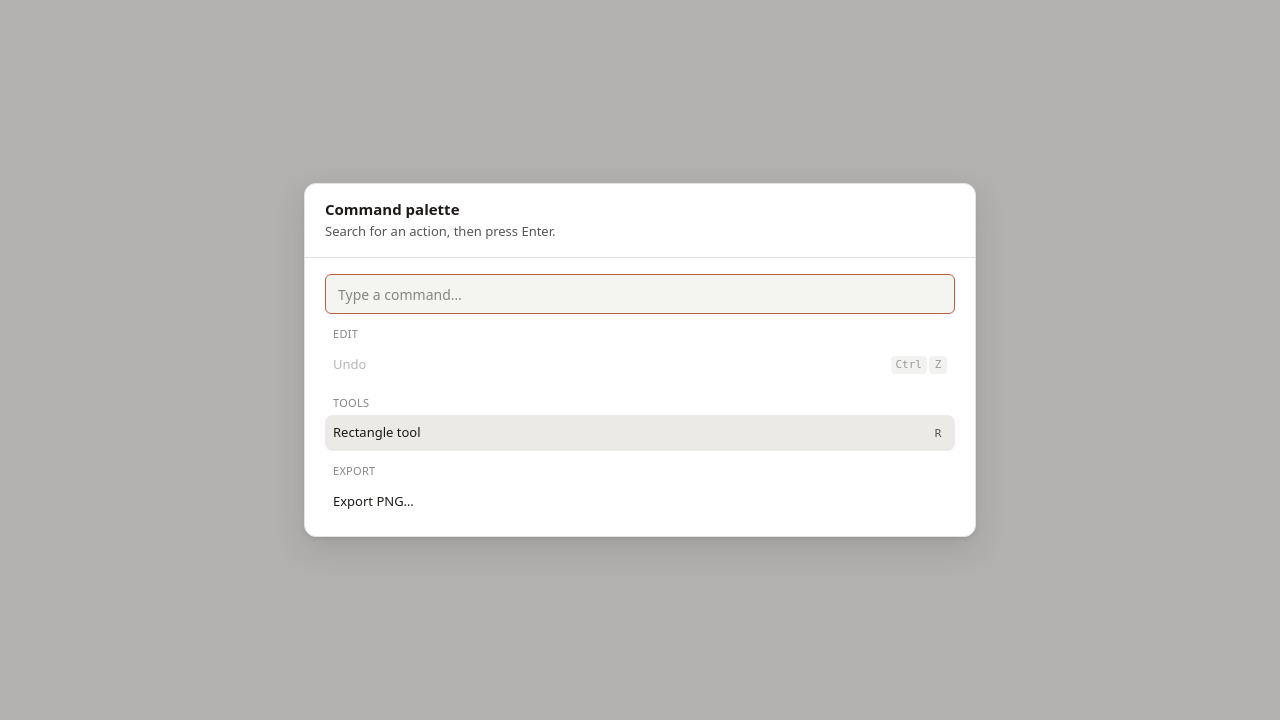
CommandPalette › reports no matches rather than showing an empty list
Type "zzzz" into the dropdown named "Search commands".
click(640, 294); type("zzzz")  # box [325, 274, 955, 314]
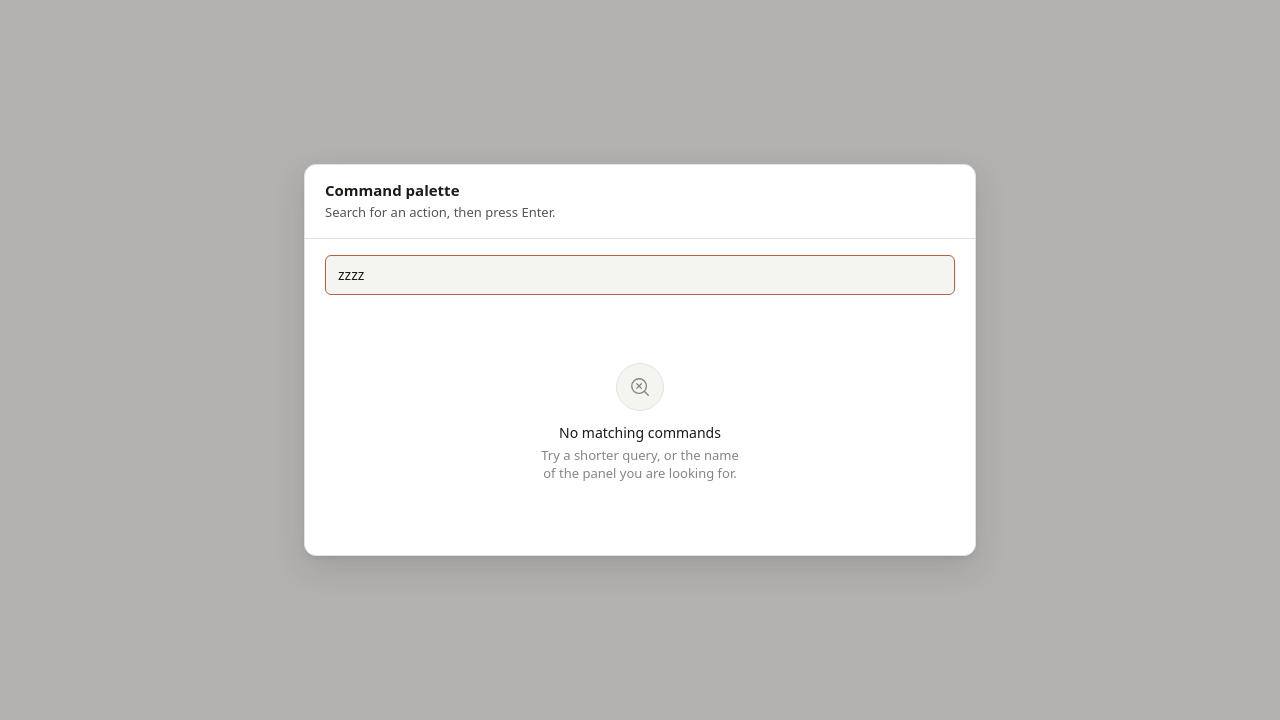
Expected: no options are shown
Expected: the text "No matching commands" is shown, [559, 423, 721, 442]
